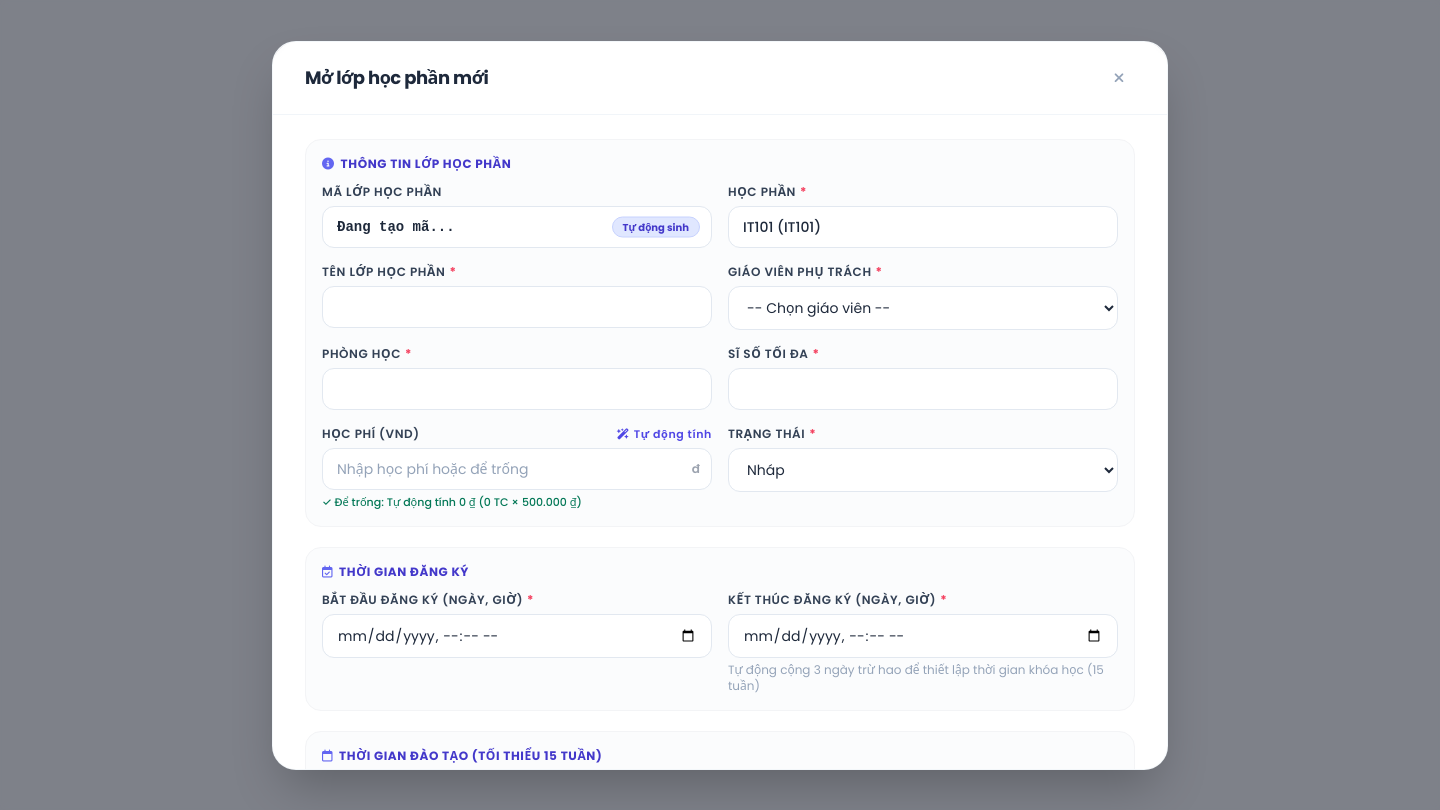
Test case: ClassFormModal registration date-time picker & validation › rejects form submission when studyStart is on or before registrationEnd
Type "Lớp 01" into the field labelled "Tên lớp học phần*" at (517, 306), box [322, 286, 712, 328]
Type "A101" into the field labelled "Phòng học*" at (517, 388), box [322, 368, 712, 410]
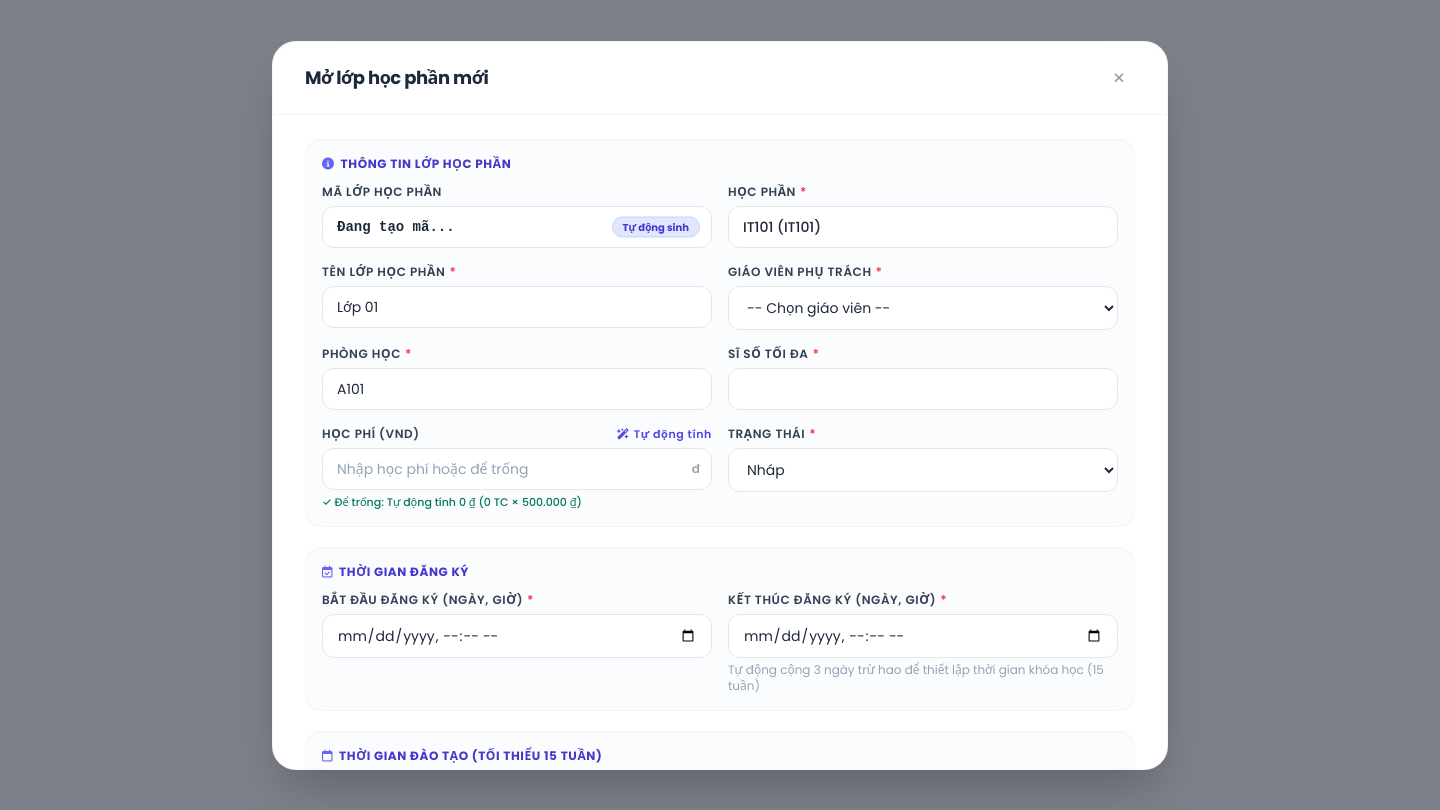
Type "30" into the number field labelled "Sĩ số tối đa*" at (923, 388), box [728, 368, 1118, 410]
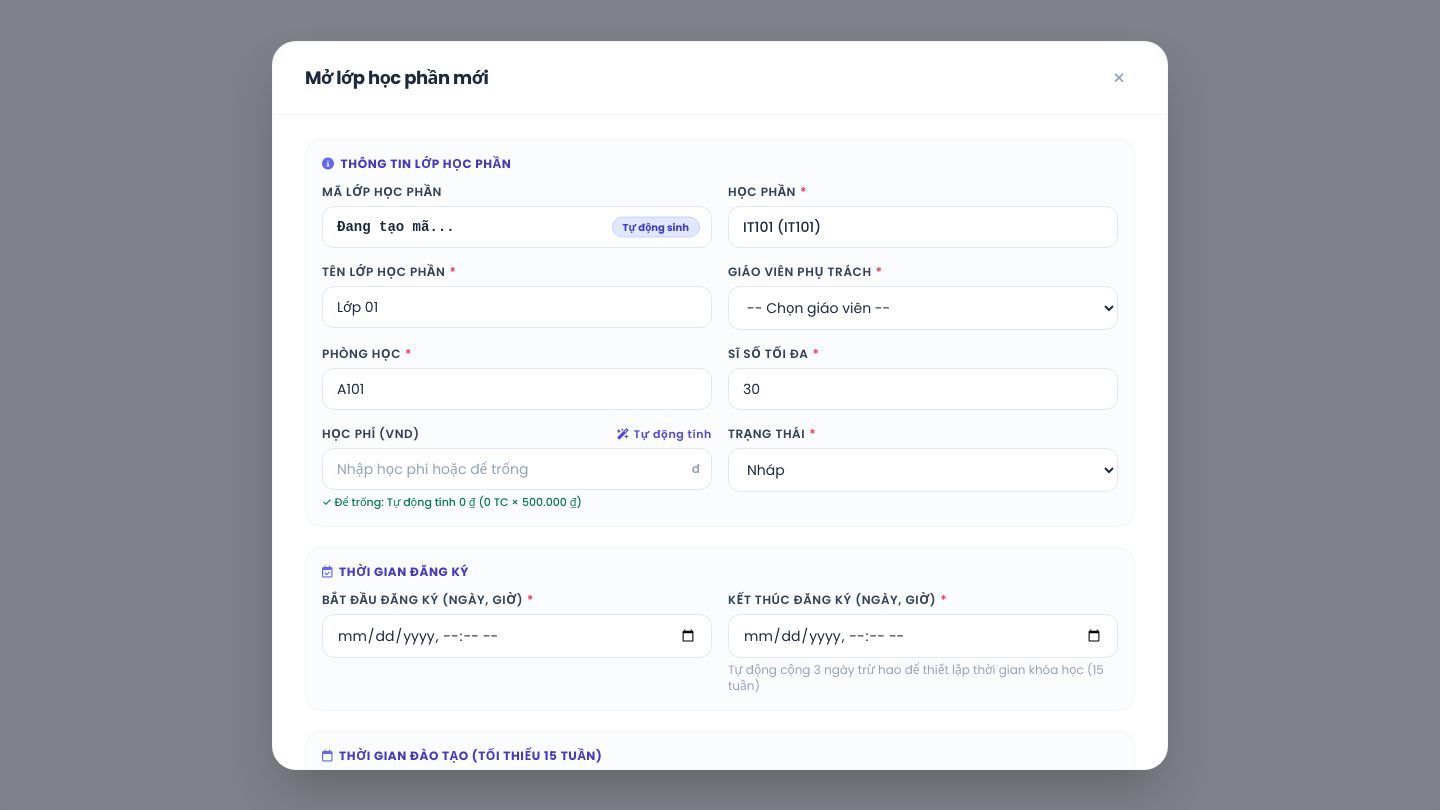
Type "2026-11-10T08:30" into the field labelled "Bắt đầu đăng ký (ngày, giờ)*" at (517, 636), box [322, 614, 712, 658]
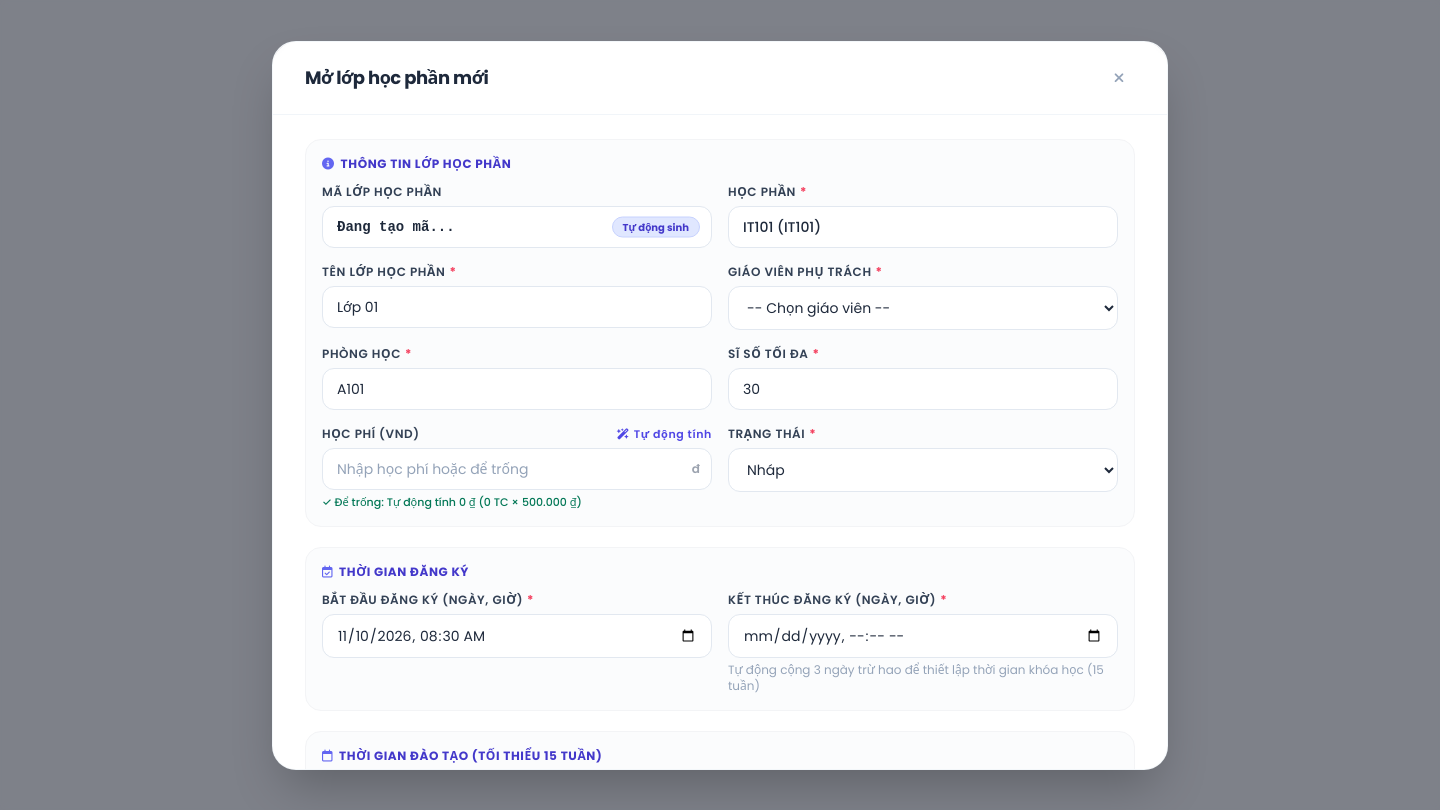
Type "2026-11-20T17:45" into the field labelled "Kết thúc đăng ký" at (923, 636), box [728, 614, 1118, 658]
(page scrolled)
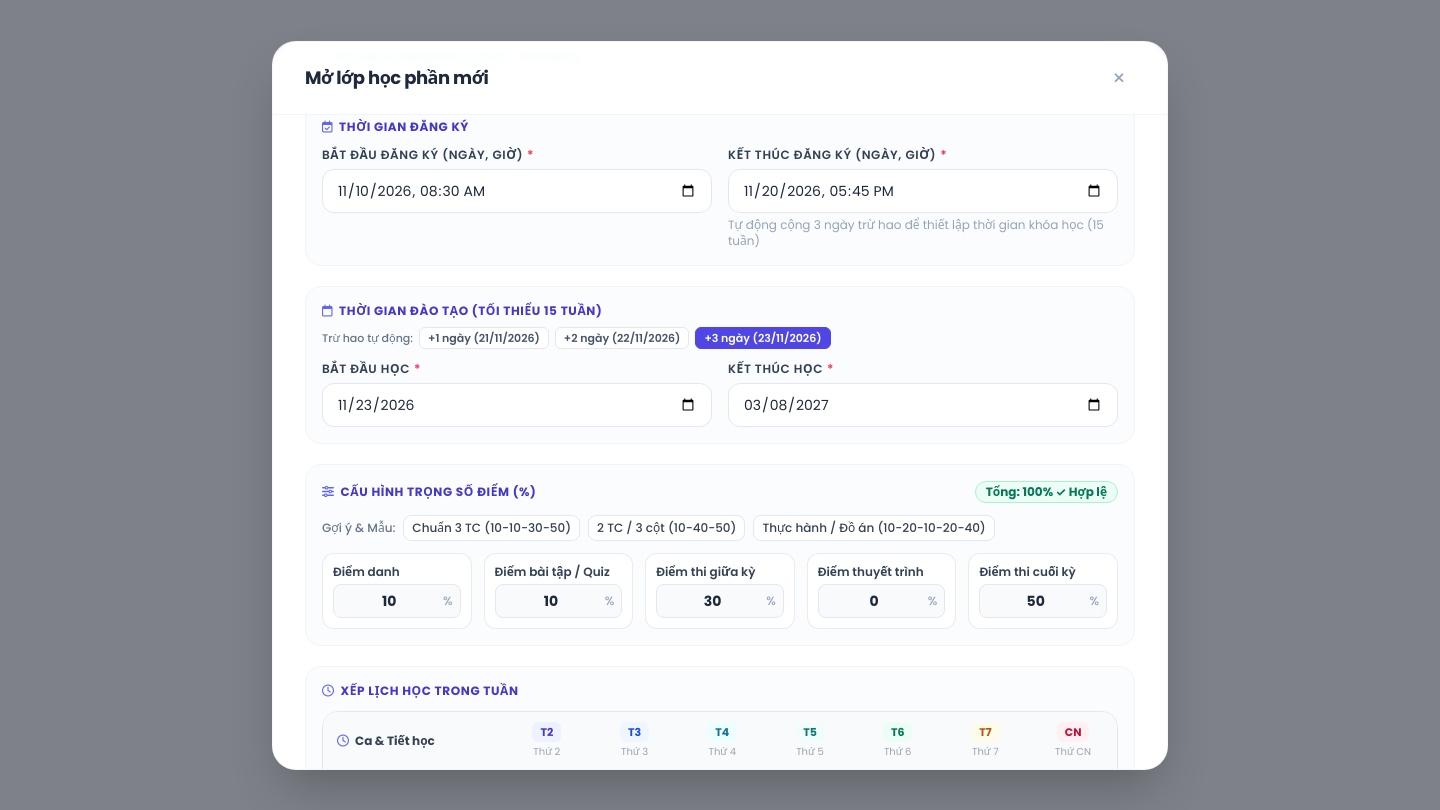
Type "2026-11-20" into the date field labelled "Bắt đầu học*" at (517, 405), box [322, 383, 712, 427]
(page scrolled)
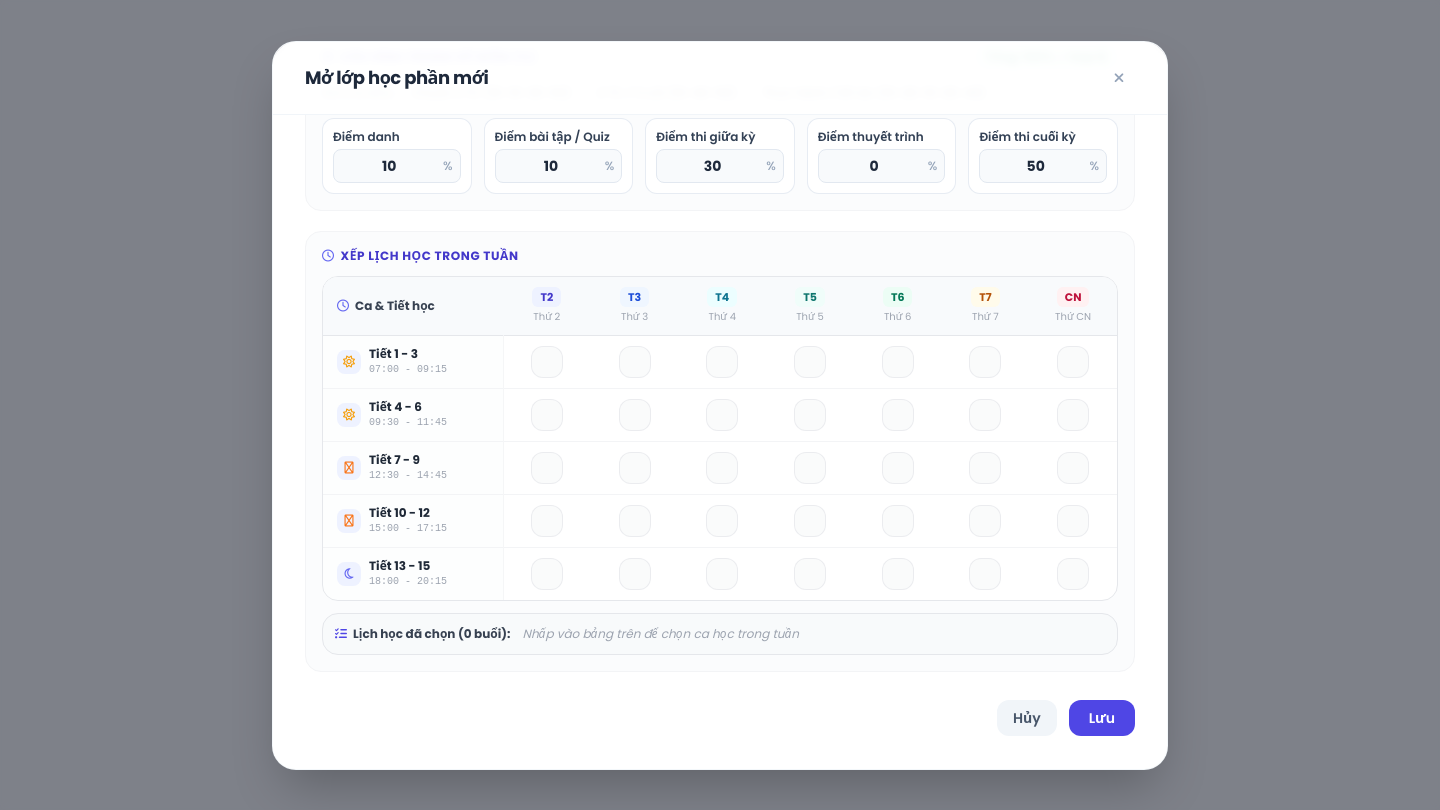
Click the button "Lưu" at (1102, 718), box [1069, 700, 1135, 736]
(page scrolled)
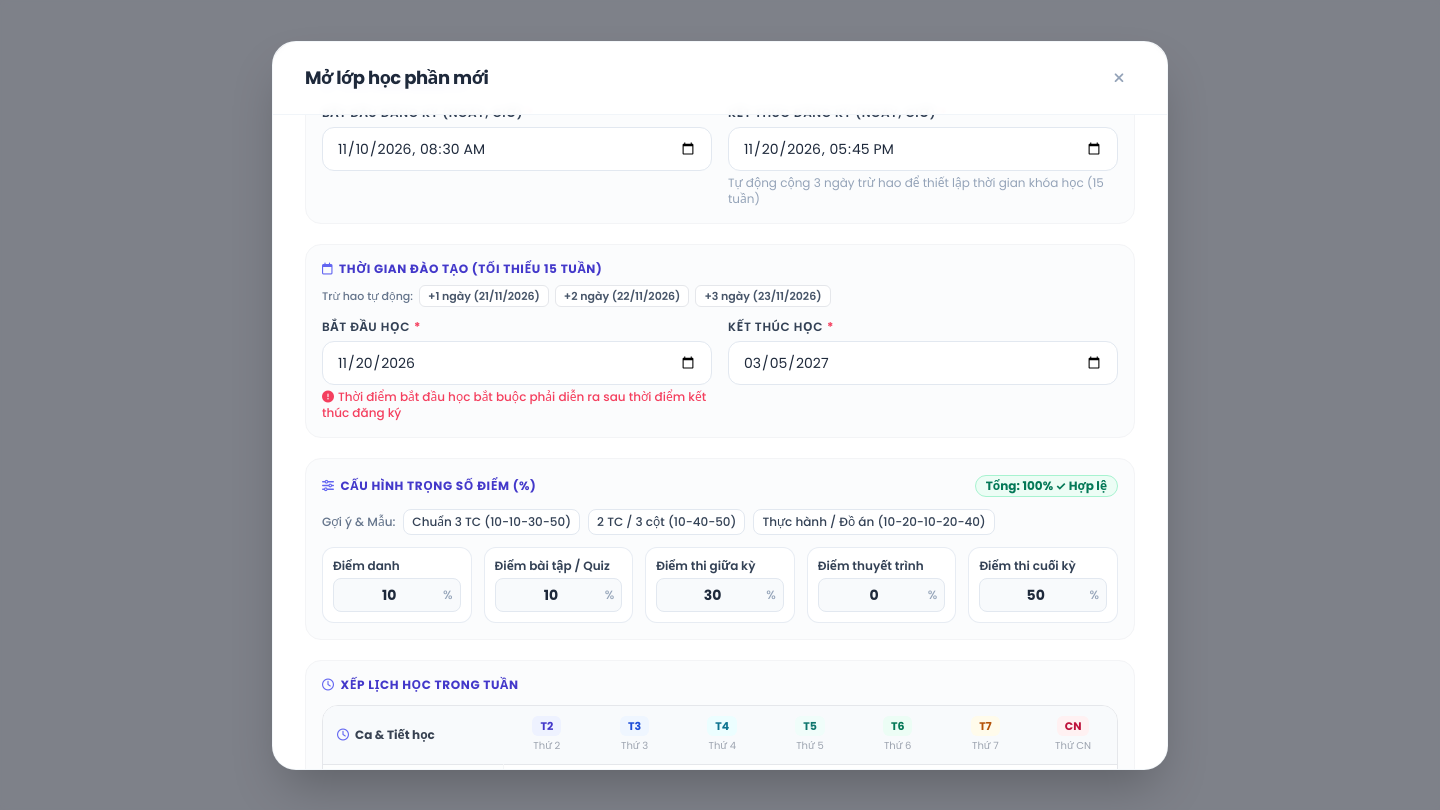
Now the text "Thời điểm bắt đầu học bắt buộc phải diễn ra sau thời điểm kết thúc đăng ký" is shown, box [322, 389, 712, 421]
